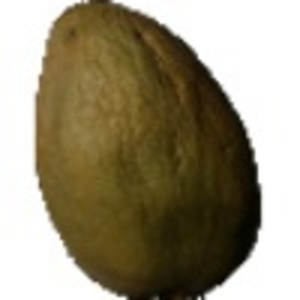mamão: (15, 1, 274, 296)
